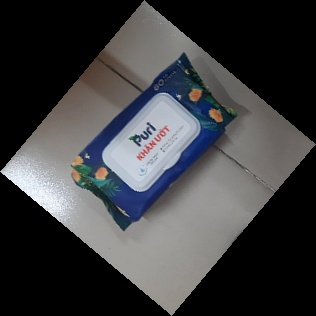Puri Xanh: (66, 52, 238, 230)
